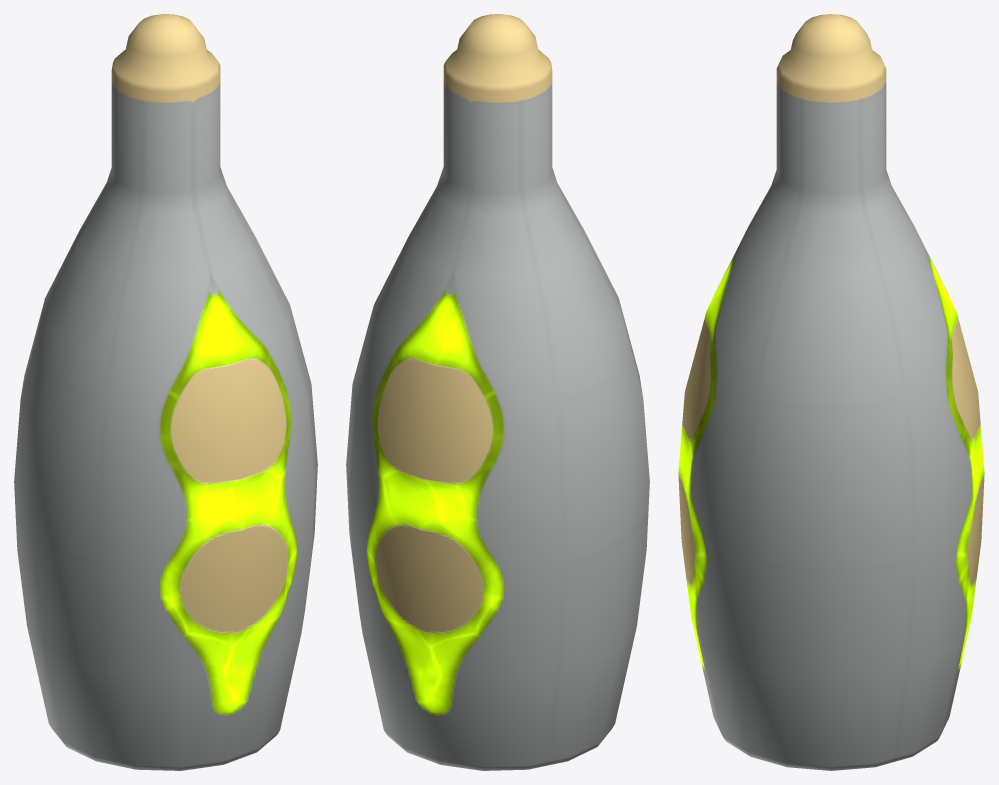
Rendered from BarBottle02_1.FBX.
3 views of the same model, side by side, from view 1: azimuth 30°, elevation 25°; view 2: azimuth 150°, elevation 25°; view 3: azimuth 270°, elevation 25° (orthographic).
Parts seen in each view (by area): view 1: BarBottle02_1; view 2: BarBottle02_1; view 3: BarBottle02_1.
Boxes of the visible parts, box(x1,y1,x2,y2) form: BarBottle02_1: box(14, 14, 317, 770); BarBottle02_1: box(346, 14, 649, 770); BarBottle02_1: box(678, 14, 984, 770).
Size of what is drawn, in the model's own units: 0.1299 by 0.3307 by 0.1299.
